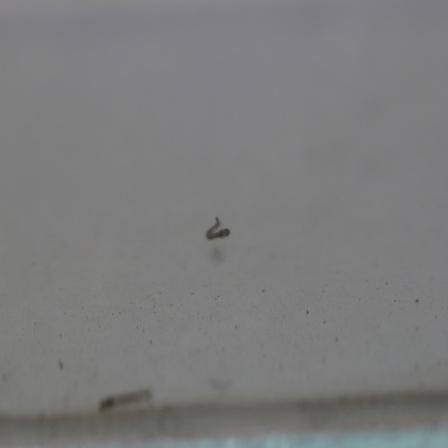Jentik-Nyamuk: (200, 210, 234, 248)
